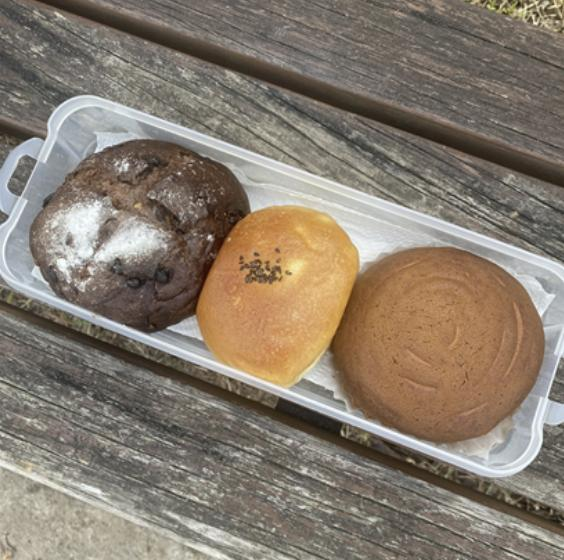Lunch Box: (0, 96, 563, 476)
